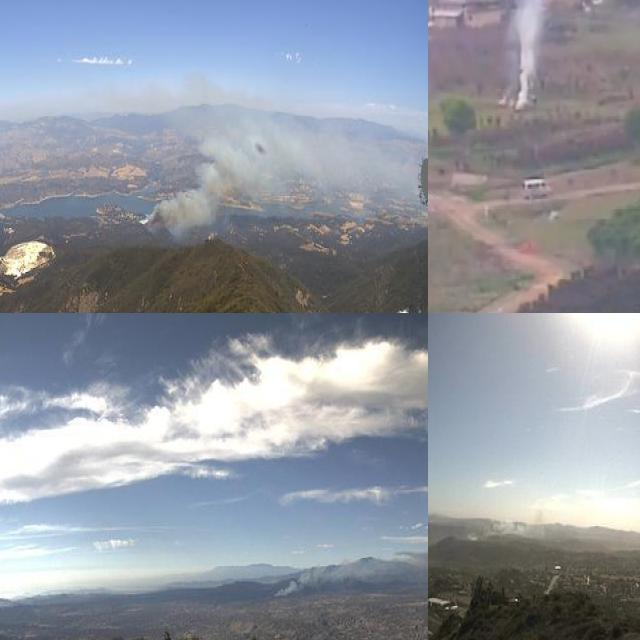smoke: (134, 93, 391, 247), (454, 0, 615, 111), (268, 544, 428, 600), (465, 498, 547, 542)
